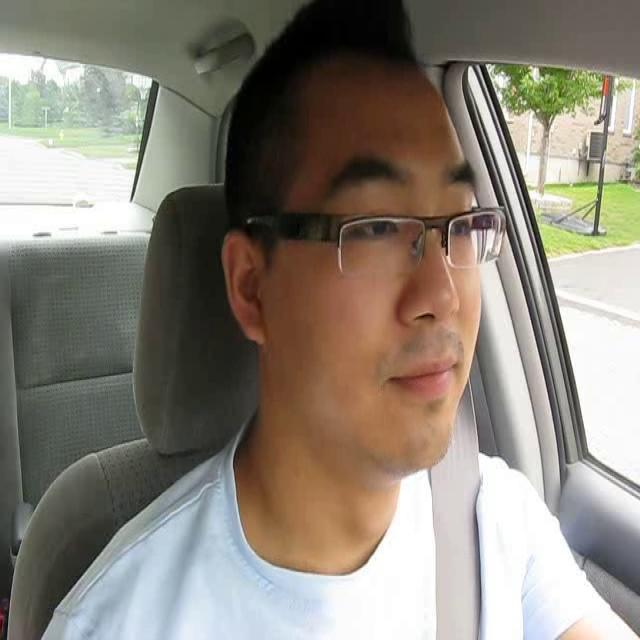close: (390, 348, 467, 402)
